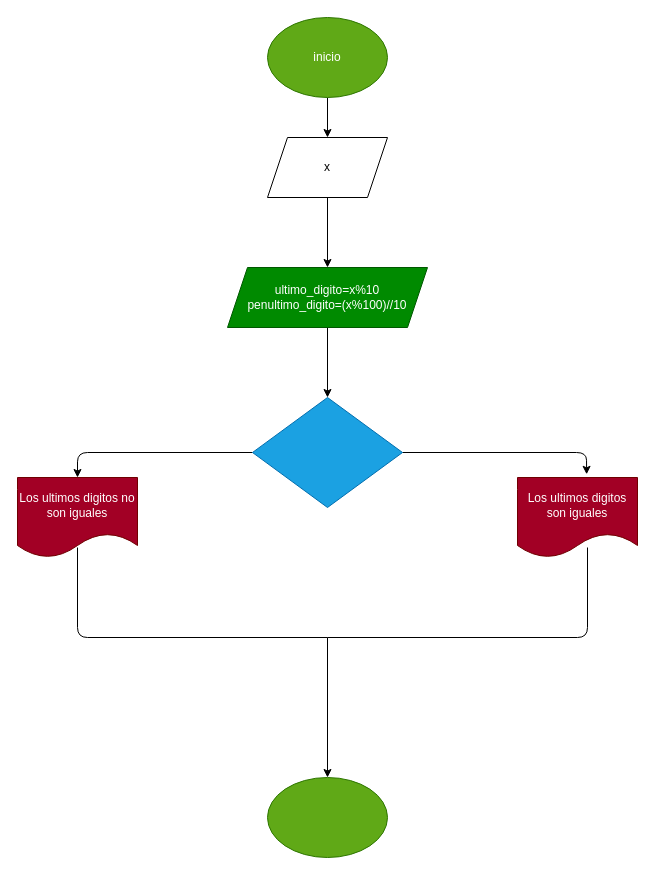
Image size: 655x875. Some labels were removed from this diagram. The shapes that lost their labels are listed below. From the top down, each one's centre as x and y in pixels, then its label:
At point 327,452: "ultimo_digito = penultimo_digito".
At point 327,817: "fin".
